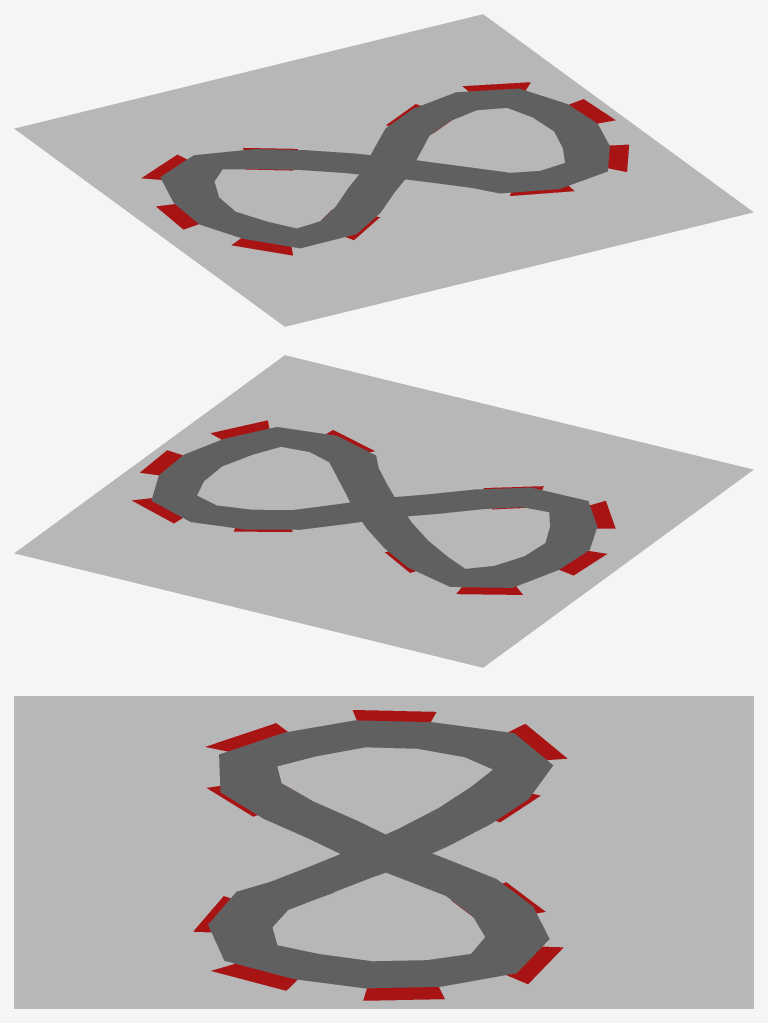
The model's file is track.obj.
3 views of the same model, one above another, from view 1: azimuth 30°, elevation 25°; view 2: azimuth 150°, elevation 25°; view 3: azimuth 270°, elevation 25° (orthographic). The views are drawn at different scales.
Visible parts, largest first — view 1: Plane, Polygon, Polygon.1; view 2: Plane, Polygon, Polygon.1; view 3: Plane, Polygon, Polygon.1.
Part boxes in pixels (x1,y1,x2,y2): Plane: (14, 14, 753, 326); Polygon: (160, 88, 609, 248); Polygon.1: (141, 82, 629, 255); Plane: (14, 355, 753, 667); Polygon: (151, 427, 597, 587); Polygon.1: (131, 420, 615, 594); Plane: (14, 696, 753, 1008); Polygon: (208, 720, 552, 988); Polygon.1: (193, 710, 567, 1000).
Size of the model in its own units: 1028 by 3.57 by 1028.
